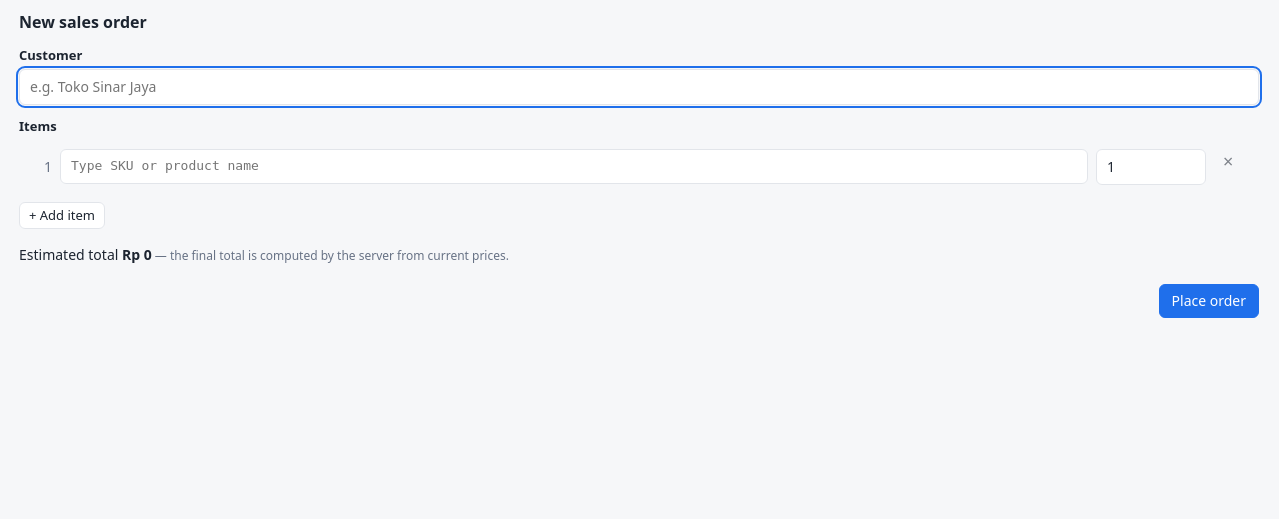
Scenario: CreateOrderForm › highlights exactly the line the server rejected with 409 INSUFFICIENT_STOCK
Type "Toko Makmur" into the field labelled "Customer" at x=639, y=87, box x1=19 y1=69 x2=1259 y2=105
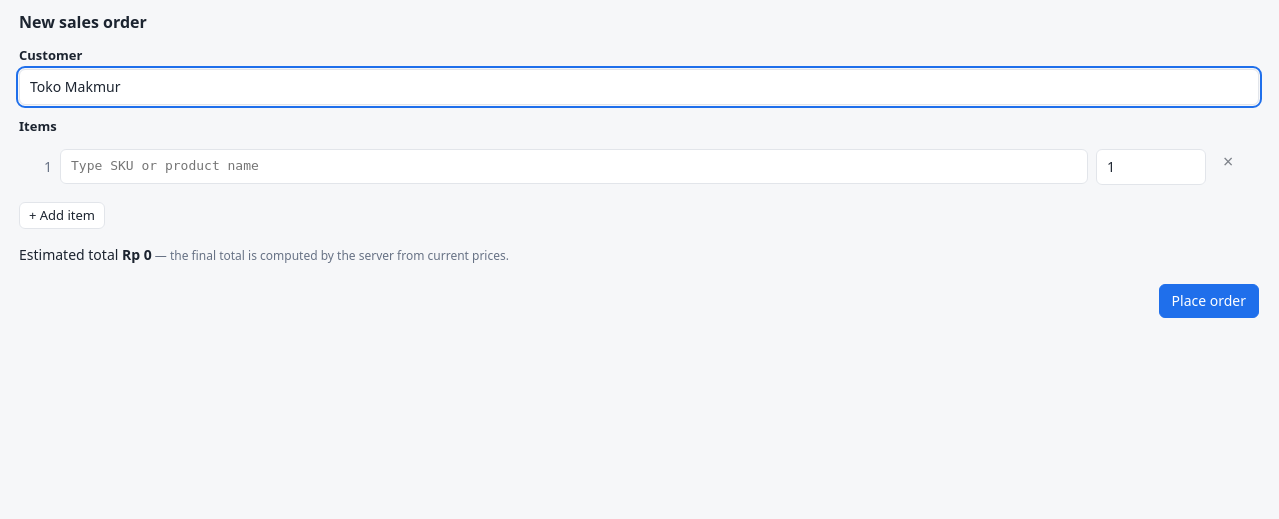
Type "BRG-001" into the field named "Item 1 SKU" at x=574, y=167, box x1=60 y1=149 x2=1088 y2=184
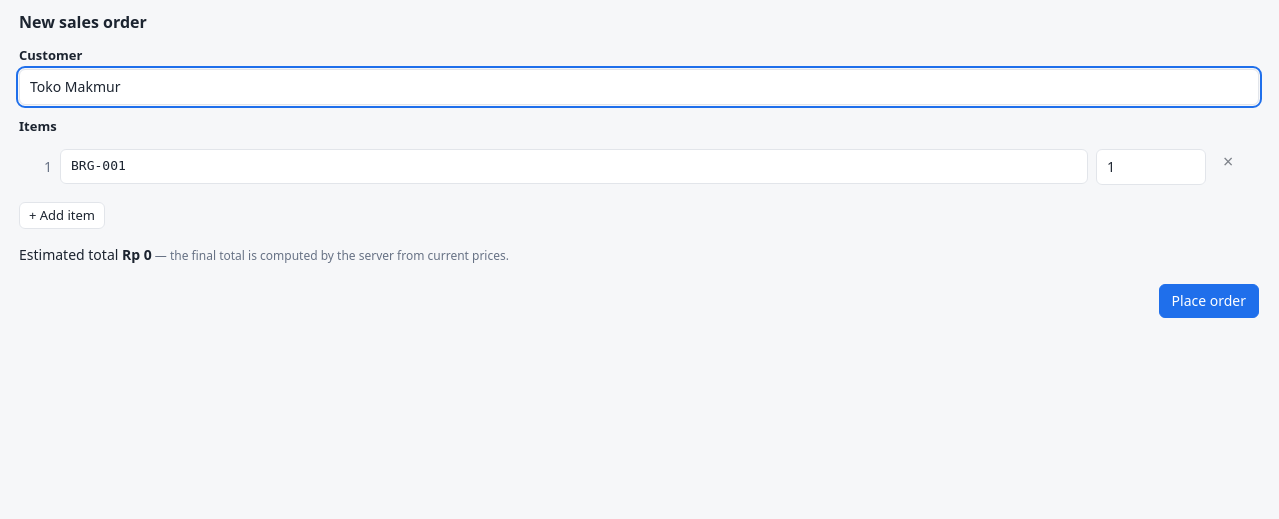
Click the button "+ Add item" at x=62, y=216, box x1=19 y1=202 x2=105 y2=229
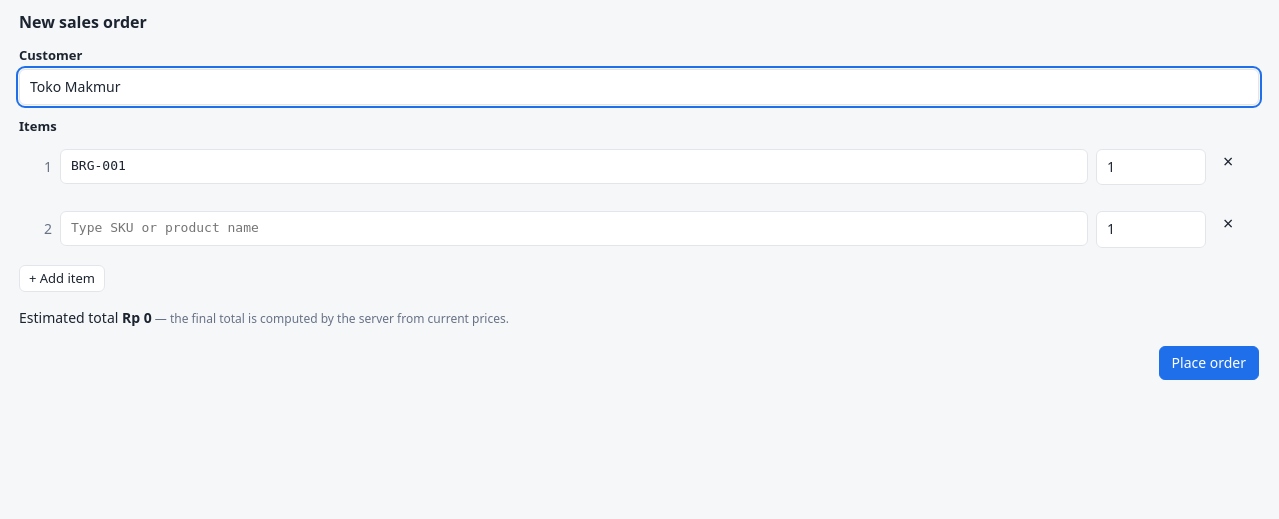
Type "BRG-005" into the field named "Item 2 SKU" at x=574, y=229, box x1=60 y1=212 x2=1088 y2=246
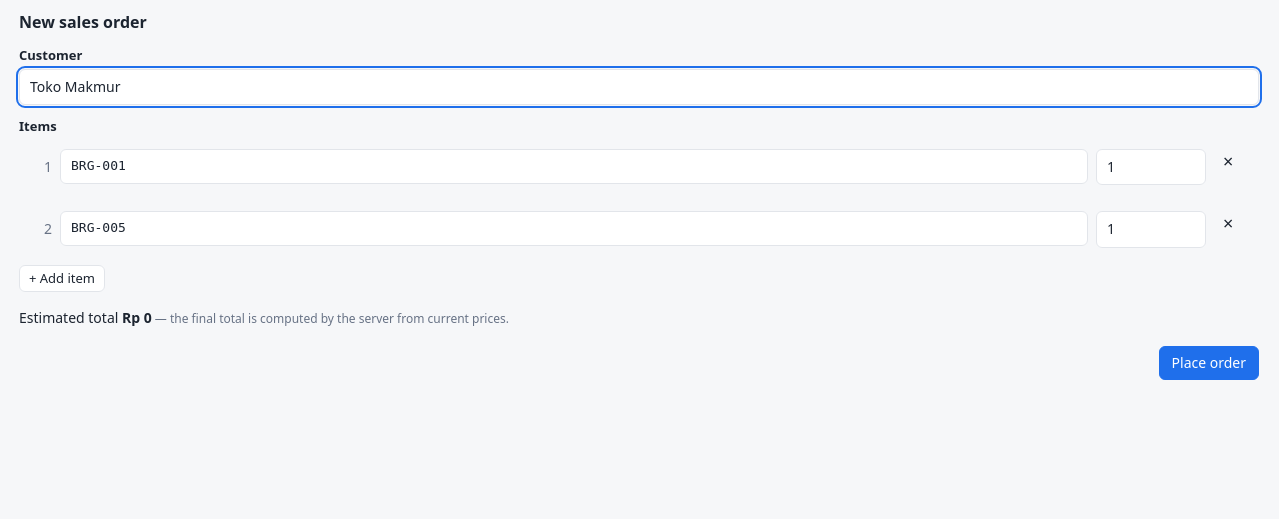
Replace the text in the field named "Item 2 quantity" with "5" at x=1151, y=230, box x1=1096 y1=212 x2=1206 y2=248
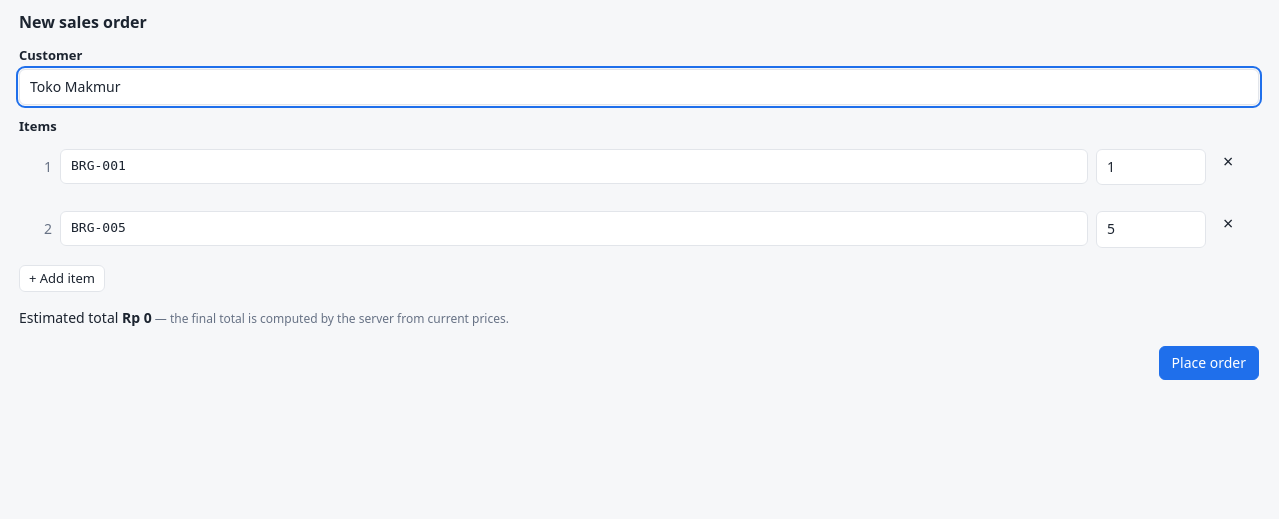
Click the button "Place order" at x=1209, y=363, box x1=1158 y1=346 x2=1259 y2=380
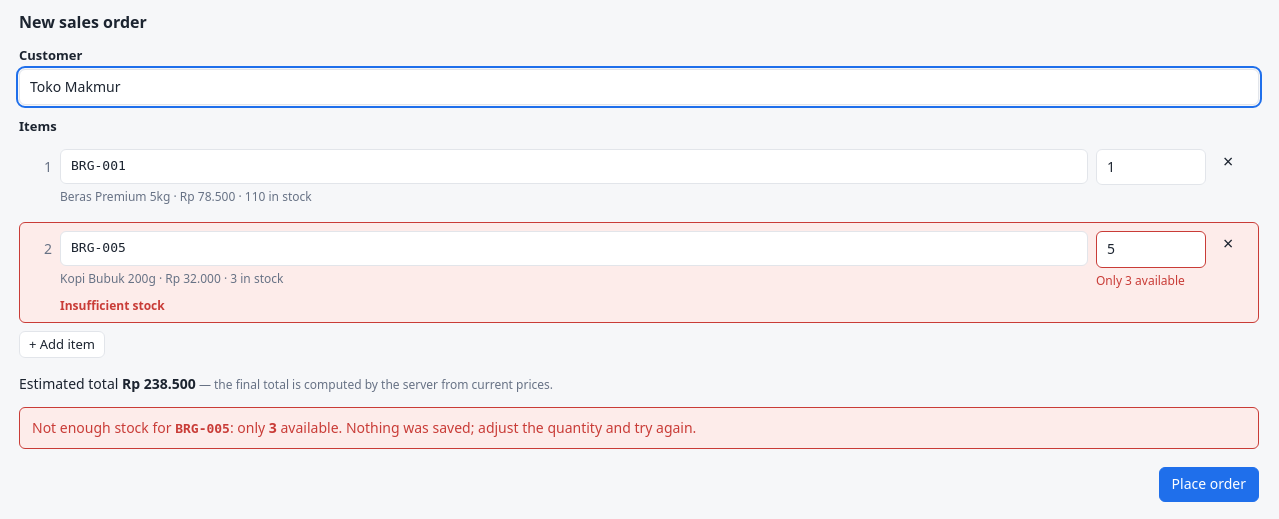
Expected: the element with class "line" shows "Insufficient stock", x1=60 y1=297 x2=165 y2=314
Expected: the message shows "BRG-005", x1=175 y1=421 x2=230 y2=436
Expected: the message shows "only 3 available", x1=19 y1=407 x2=1259 y2=449
